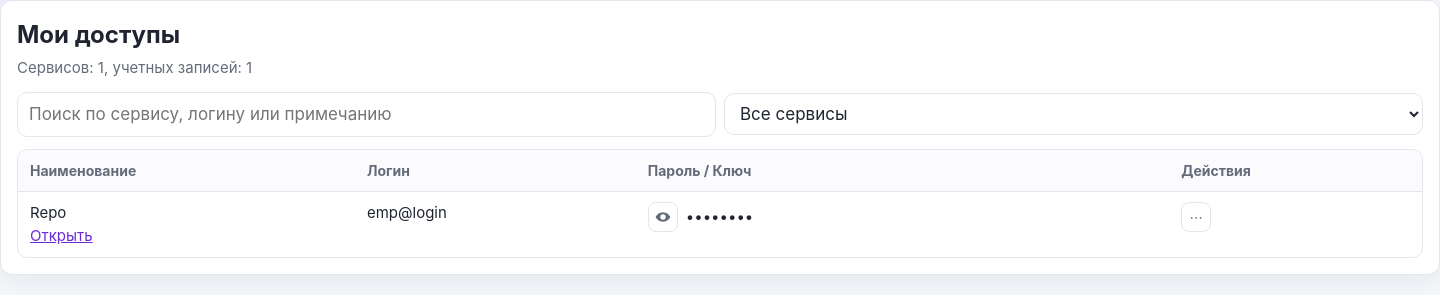
Test: VaultPage › keeps secrets masked by default and reveals them on explicit interaction
Check: the text "••••••••" is shown, box x1=686 y1=206 x2=753 y2=228
Click the button named "Показать секрет".
click(663, 217)  # box x1=648 y1=202 x2=678 y2=232
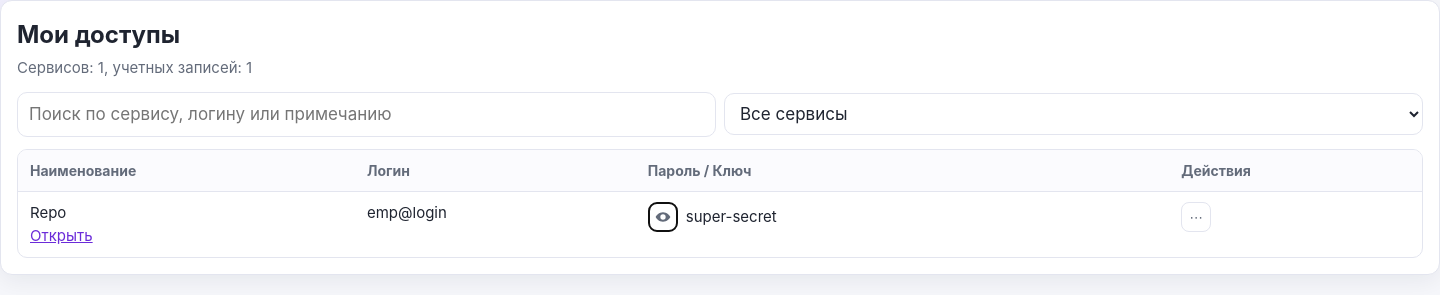
Check: the button "super-secret" is shown, box x1=686 y1=206 x2=777 y2=228
